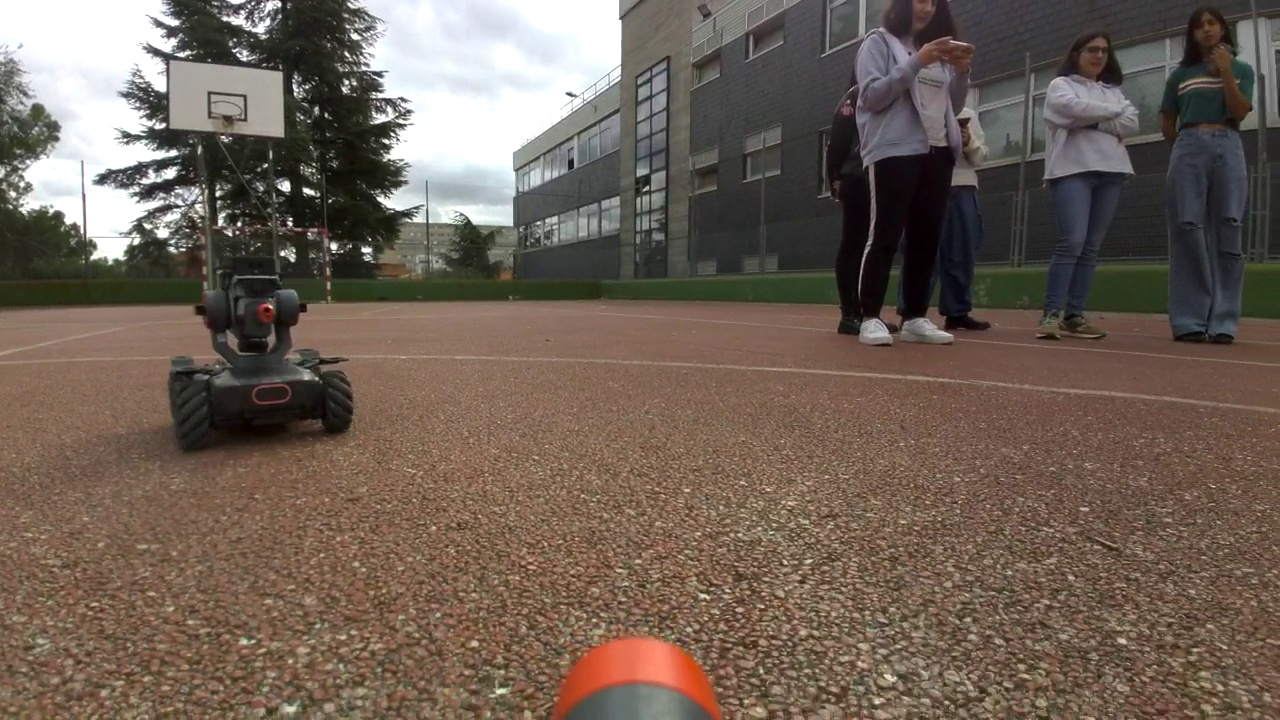robot: (169, 259, 352, 450)
